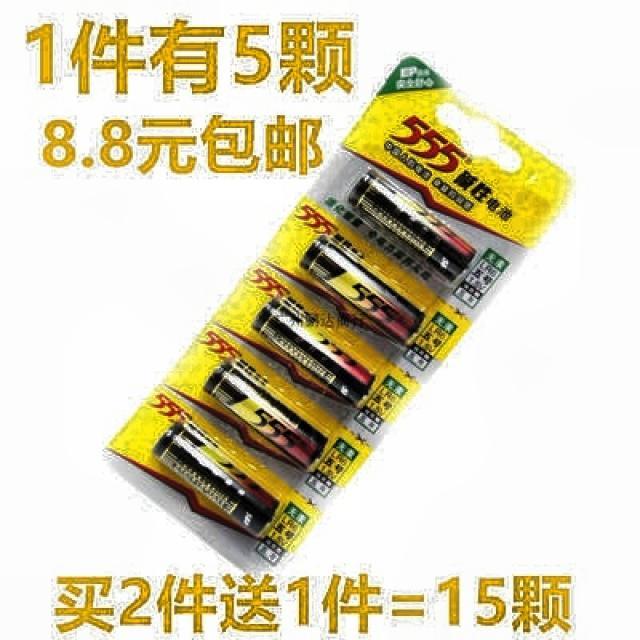Non-Valuable Waste - Batteries: (349, 171, 475, 281), (155, 424, 278, 534), (252, 296, 375, 403), (300, 236, 424, 342), (205, 361, 326, 467)
